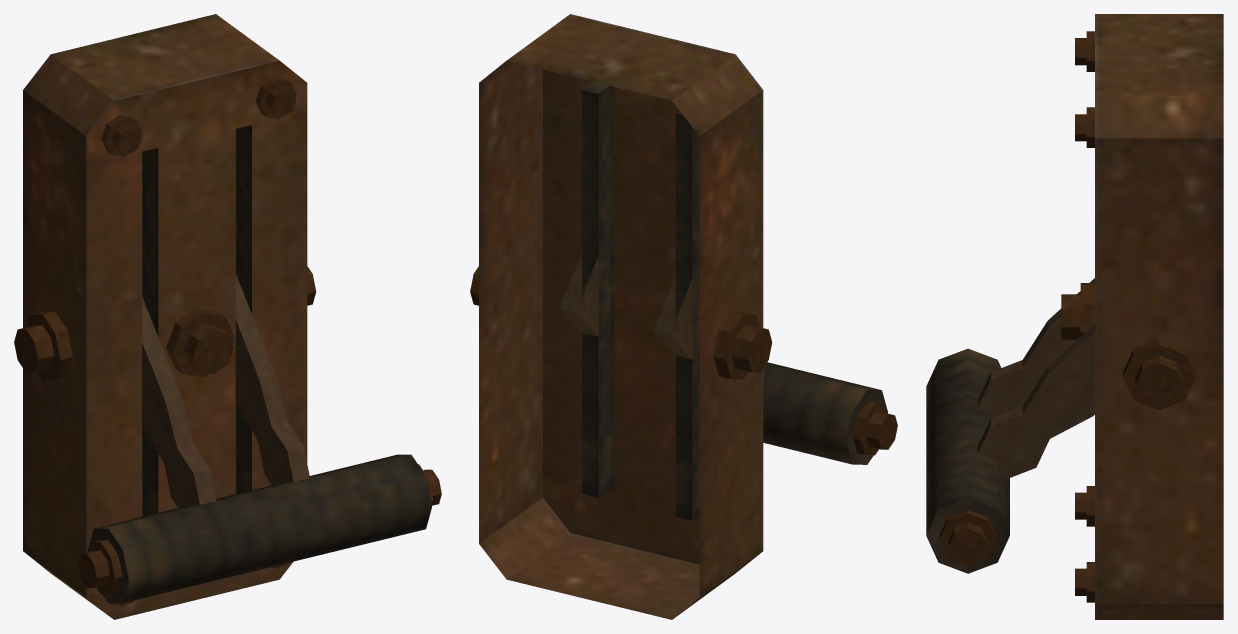
Rendered from lever_etx_4.obj.
3 renders of one model, left to right at view 1: azimuth 30°, elevation 25°; view 2: azimuth 150°, elevation 25°; view 3: azimuth 270°, elevation 25°, orthographic.
Visible parts, largest first — view 1: lever_etx_4, lever_etx_4_child; view 2: lever_etx_4, lever_etx_4_child; view 3: lever_etx_4, lever_etx_4_child.
Part boxes in pixels (x1,y1,x2,y2): lever_etx_4: [14, 14, 316, 619]; lever_etx_4_child: [78, 274, 441, 603]; lever_etx_4: [470, 14, 772, 619]; lever_etx_4_child: [559, 252, 897, 464]; lever_etx_4: [1061, 14, 1223, 619]; lever_etx_4_child: [926, 278, 1094, 573].
Size of the model in its own units: 0.2254 by 0.324 by 0.1665.
